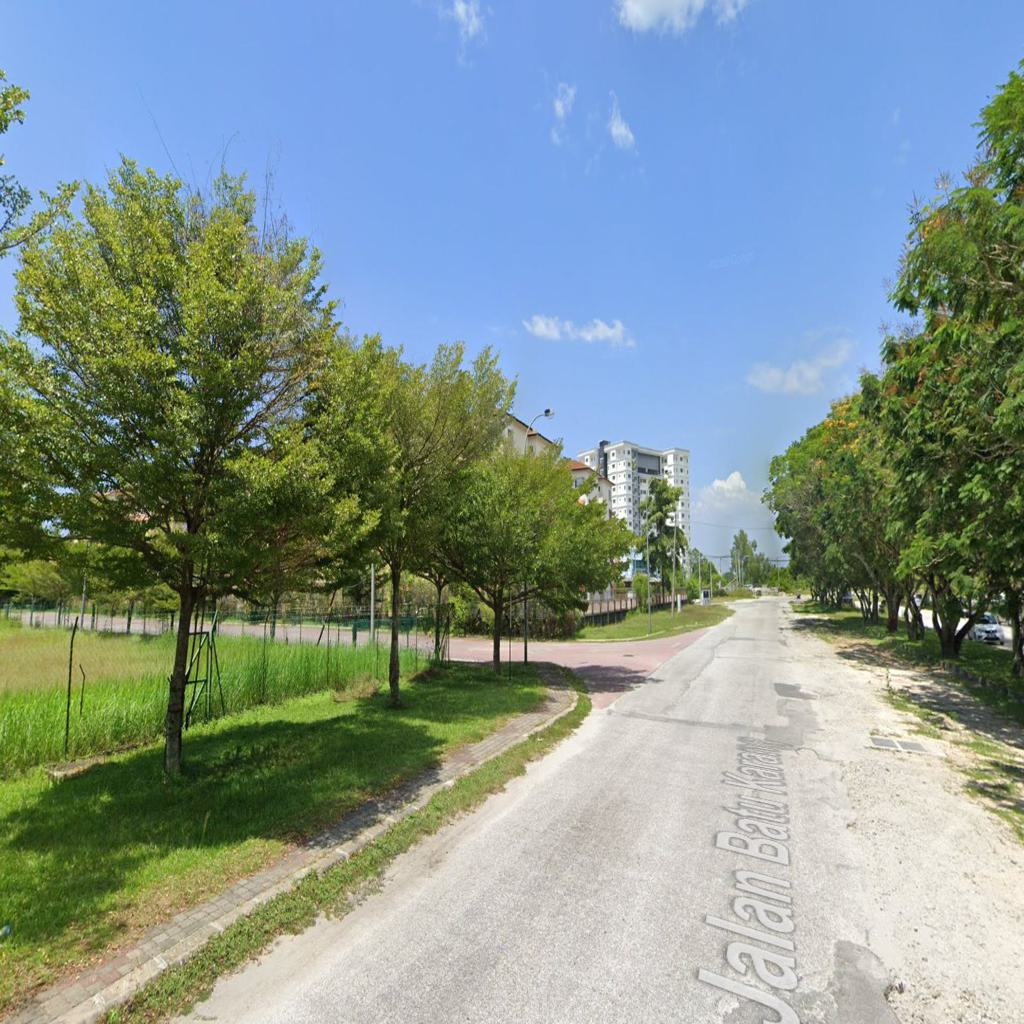Junction: (500, 615, 721, 722)
